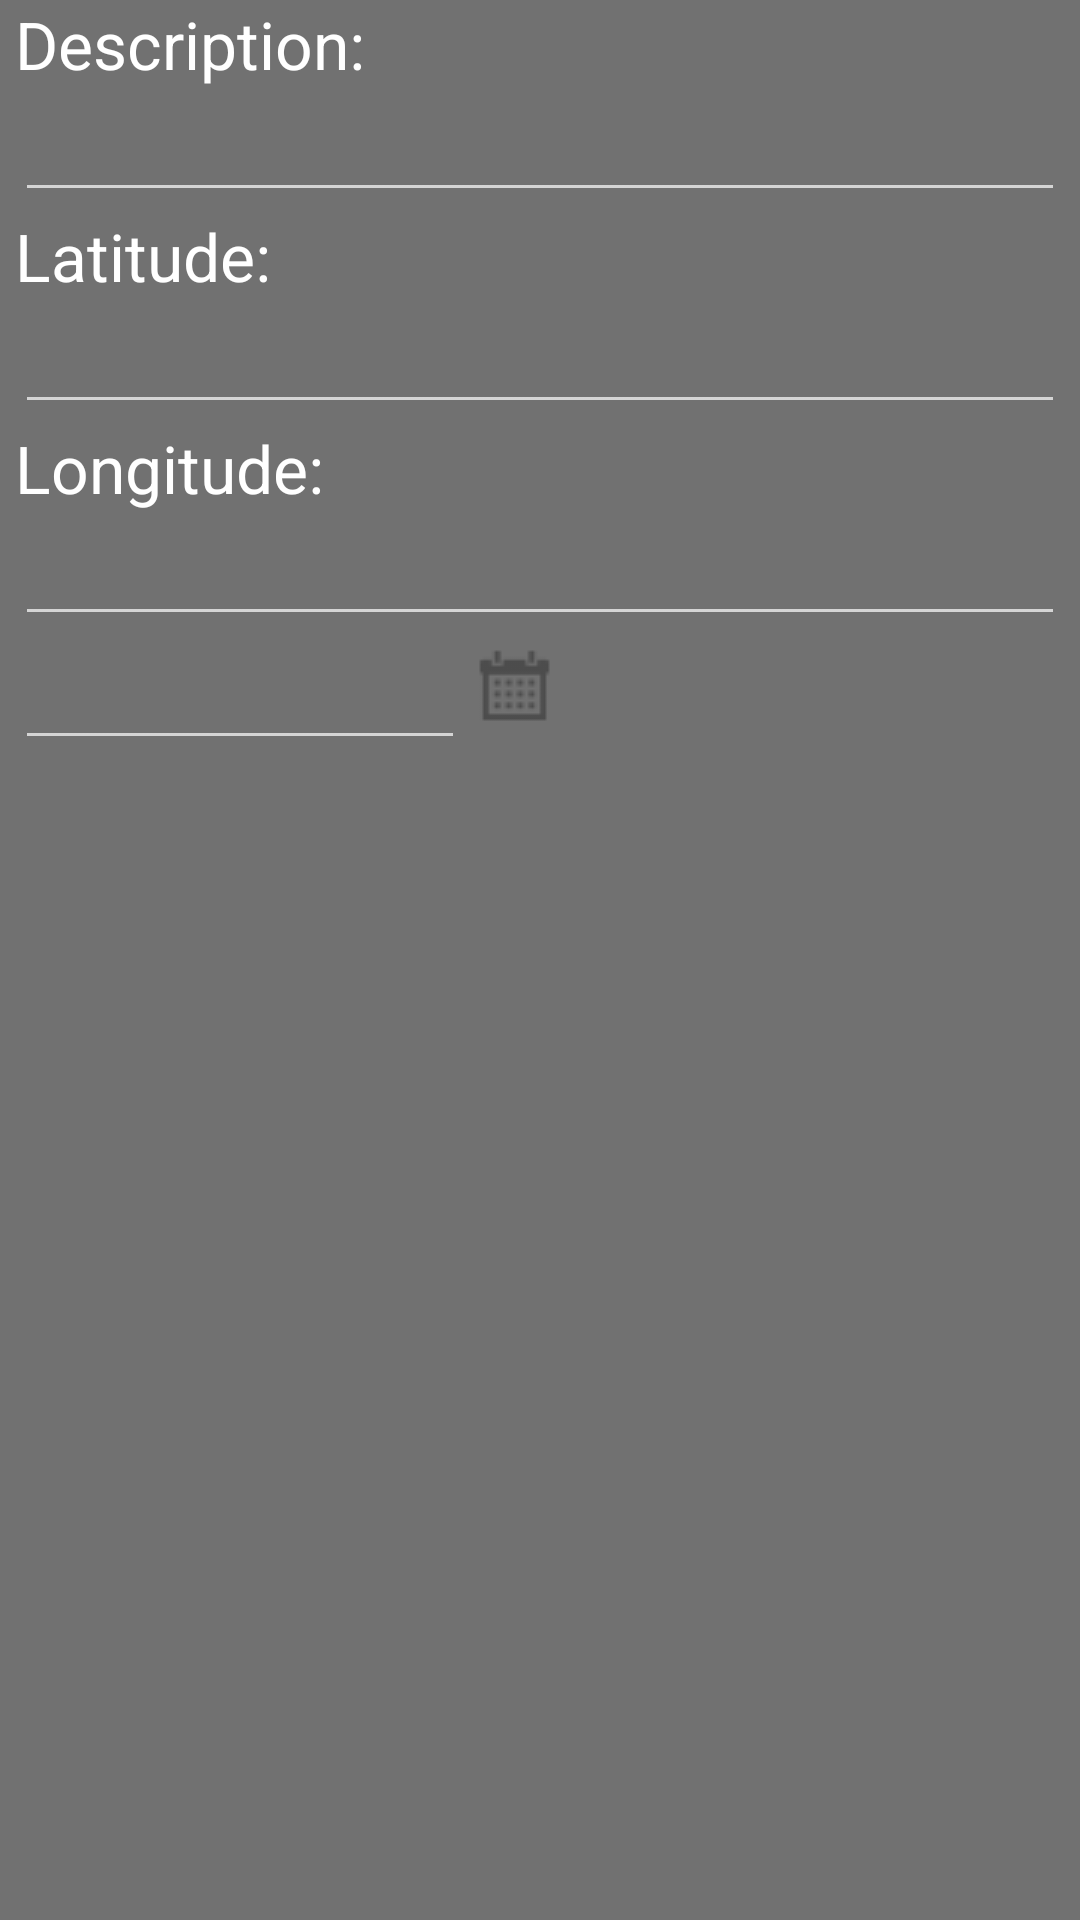

Named icons in this screenshot (1080*1920) and their bounding boxes, (x1, y1, x2, y2):
calendar: (480, 652, 549, 720)
